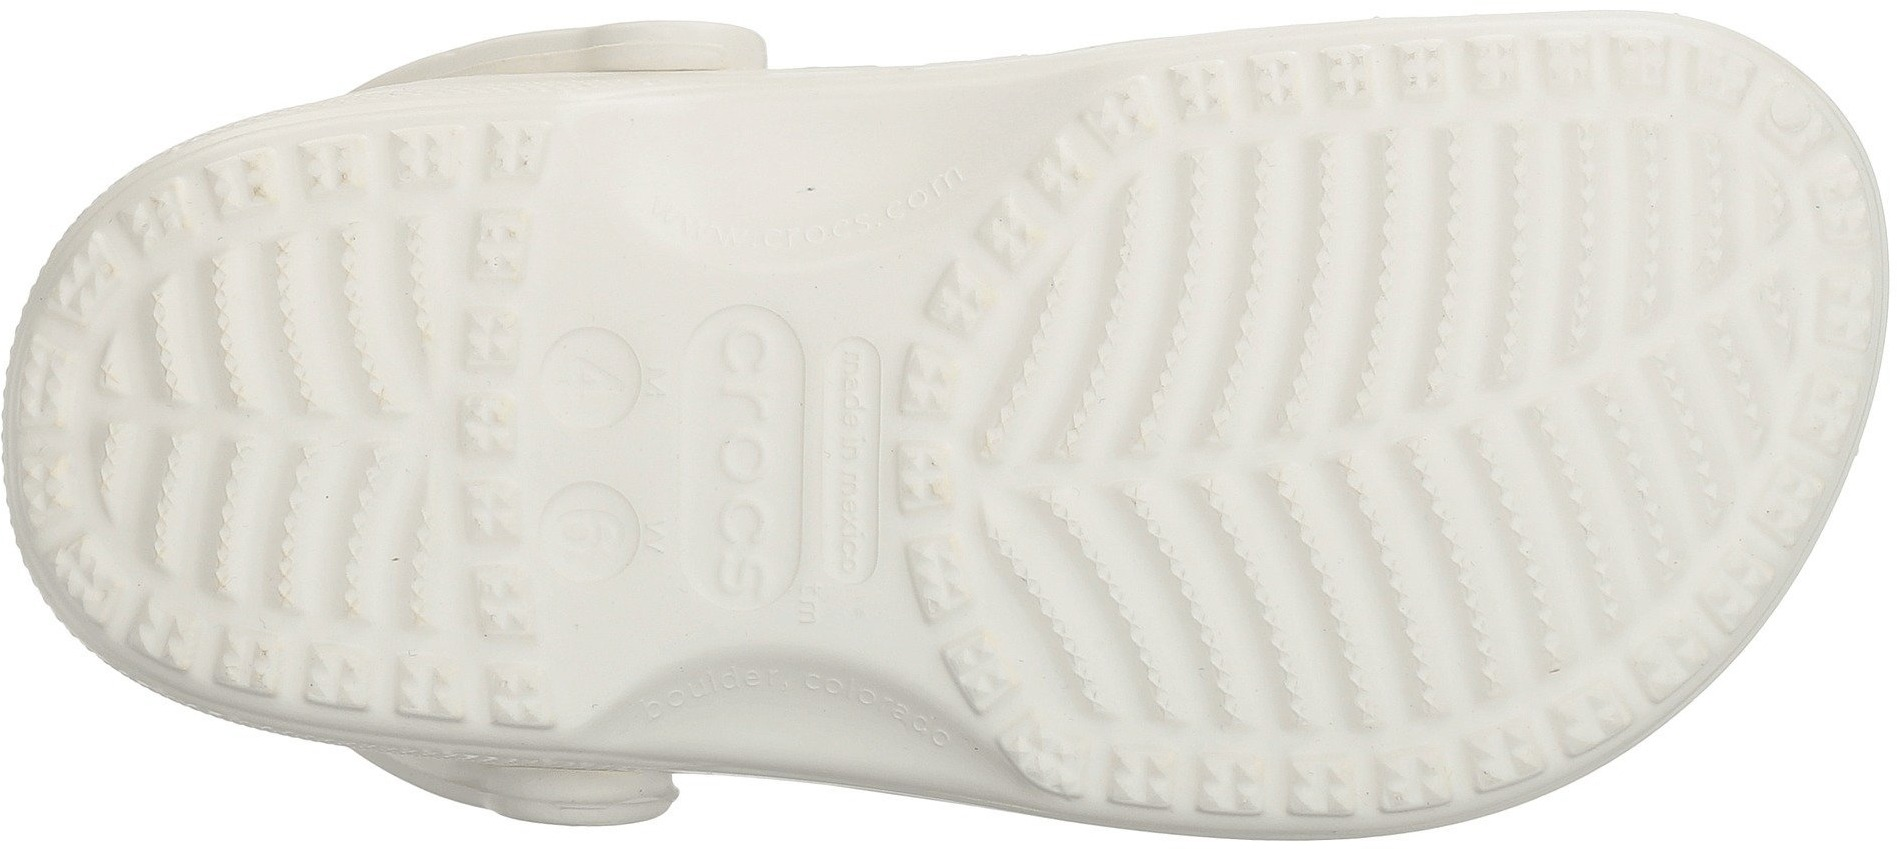circle: (1604, 21, 1876, 233), (707, 312, 778, 603), (536, 323, 650, 438), (531, 477, 648, 588)
line: (96, 198, 451, 426), (87, 418, 454, 636), (1228, 464, 1506, 722), (1605, 337, 1873, 591), (1226, 126, 1489, 377), (1604, 21, 1876, 233), (200, 223, 422, 443)
quad: (1605, 337, 1873, 591), (1604, 21, 1876, 233), (668, 291, 815, 620), (818, 322, 888, 590)
text: (707, 312, 778, 603), (536, 323, 650, 438), (531, 477, 648, 588), (834, 346, 867, 582), (815, 469, 886, 568), (814, 337, 886, 424)
